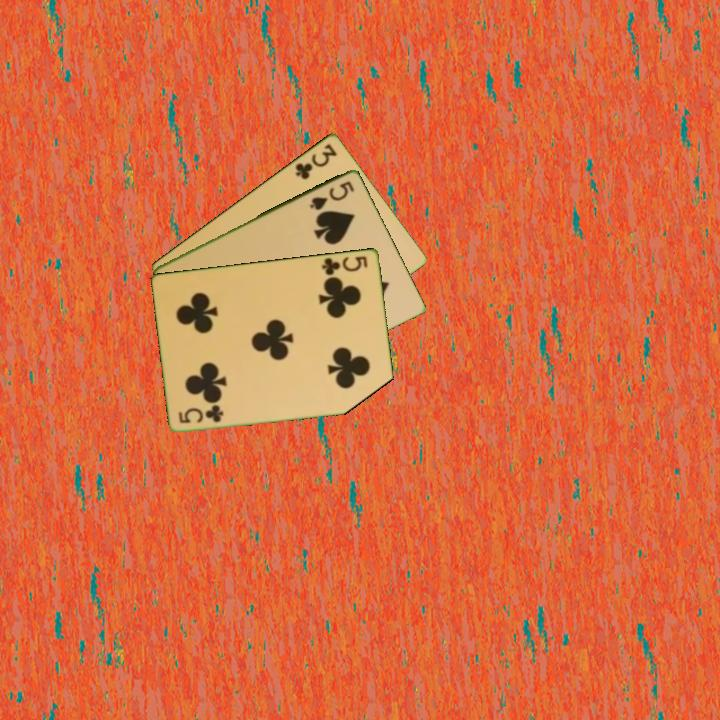3c: (292, 139, 340, 182)
5c: (319, 252, 371, 278), (175, 402, 227, 426)
5s: (306, 177, 357, 213)
